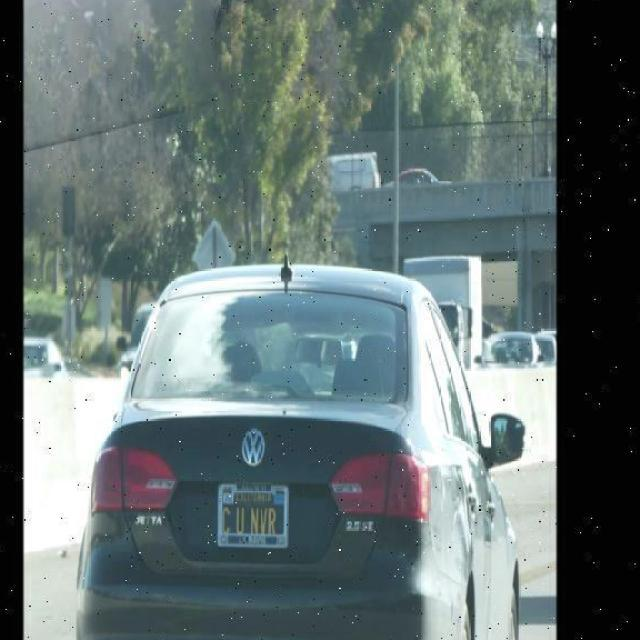license-plate: (213, 478, 311, 552)
